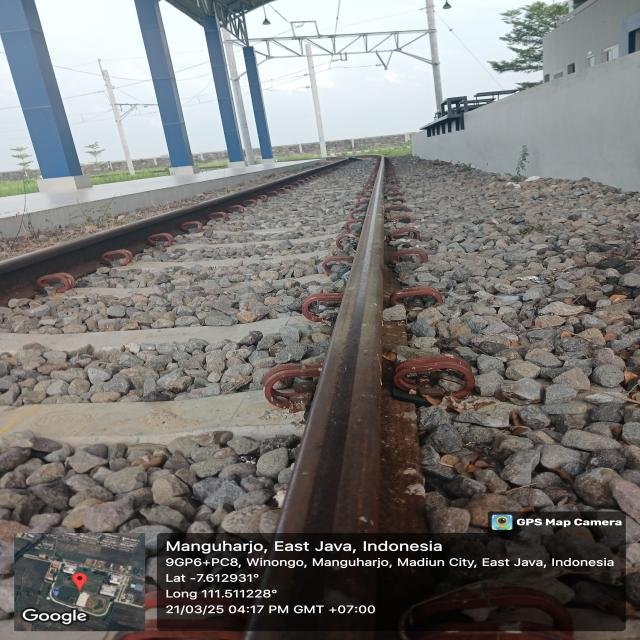rail-detection: (0, 158, 360, 300), (279, 156, 388, 535)
